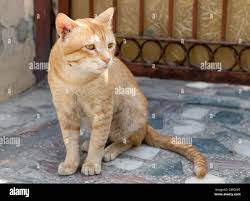cat: (46, 11, 207, 178)
